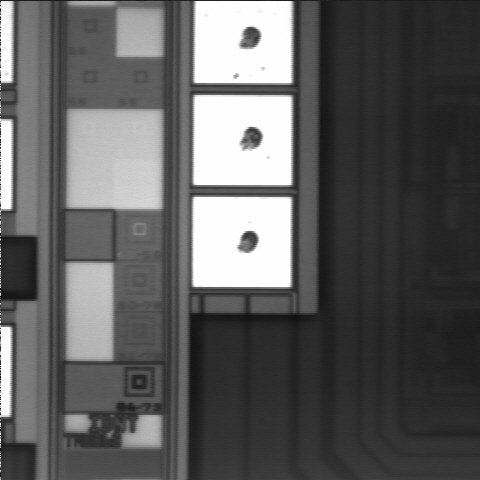pad: (192, 95, 293, 187), (192, 196, 292, 288)
